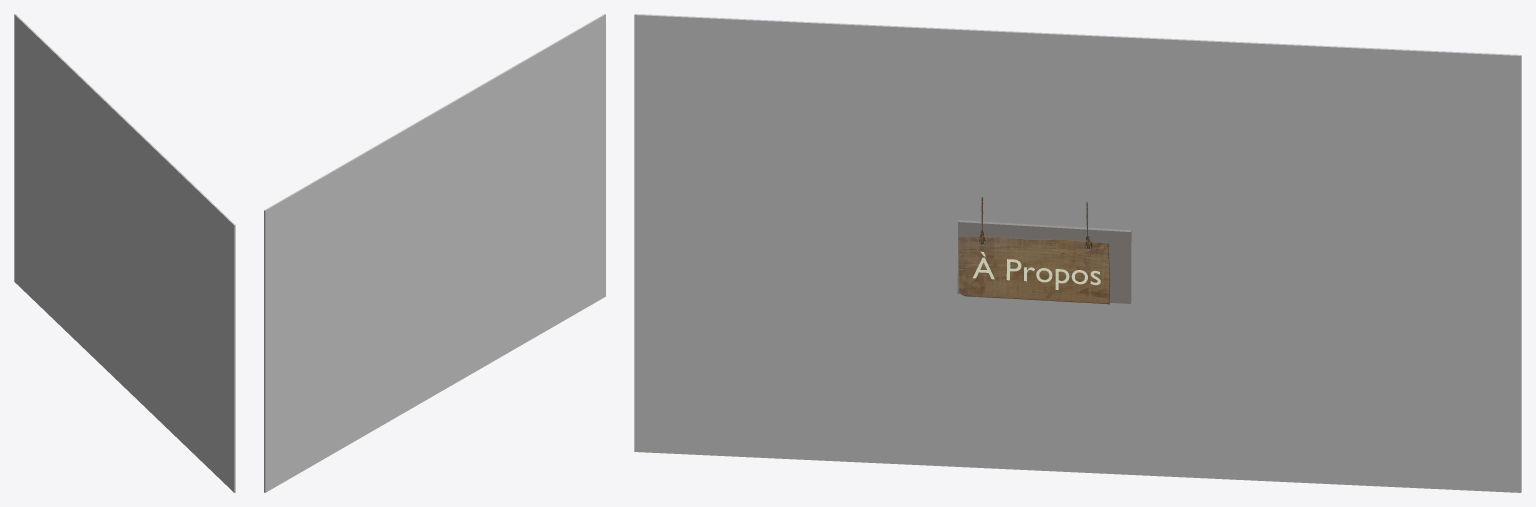
The model's file is panneau-propos.glb.
3 views of the same model, side by side, from view 1: azimuth 30°, elevation 25°; view 2: azimuth 150°, elevation 25°; view 3: azimuth 270°, elevation 25° (orthographic). The views are drawn at different scales.
Visible parts, largest first — view 1: Cube.001; view 2: Cube.001; view 3: Cube.001, pancarte-portfolio-webp, ombre, container-texte.
Boxes of the visible parts, bbox=[...] form: Cube.001: bbox=[14, 14, 235, 492]; Cube.001: bbox=[264, 14, 605, 492]; Cube.001: bbox=[634, 14, 1521, 492]; pancarte-portfolio-webp: bbox=[958, 197, 1111, 304]; ombre: bbox=[957, 220, 1131, 303]; container-texte: bbox=[973, 251, 1100, 289].
Bounding box in the file's own units: 8.07 × 39.12 × 71.98.
Materials: 5 (1 with a texture image).
